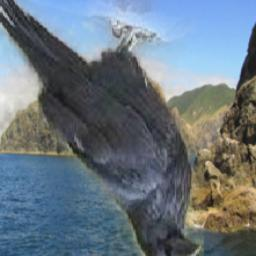Crow: (0, 0, 203, 256)
